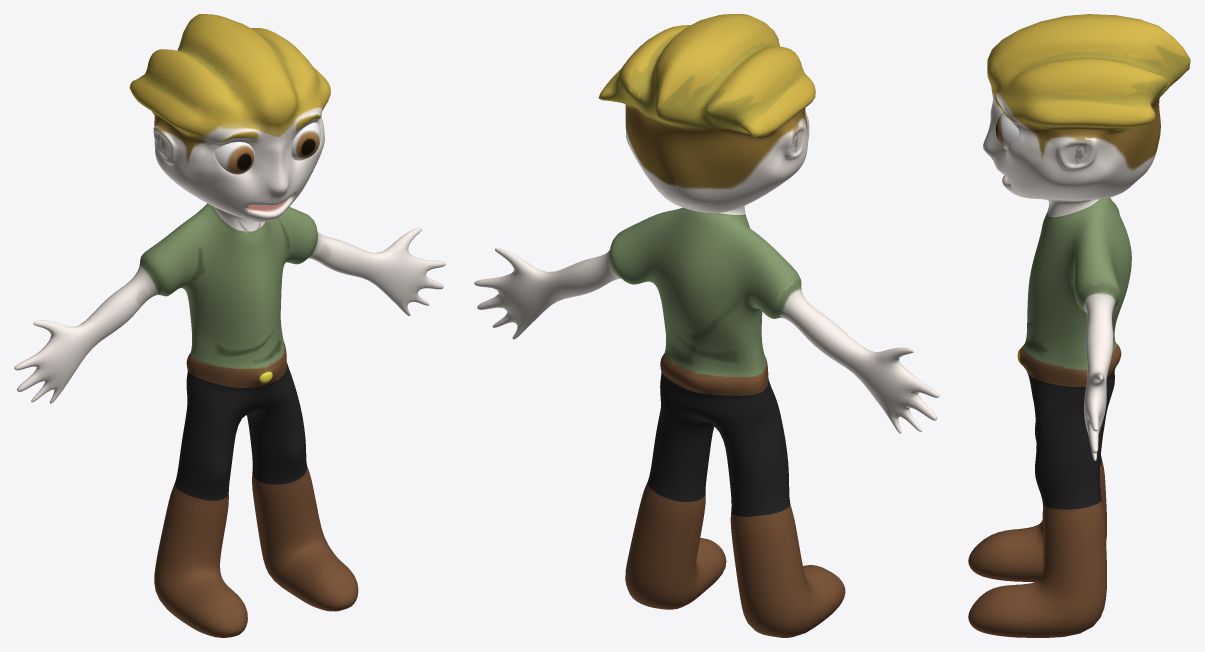
The model's file is MaleMainCharacter.fbx.
3 views of the same model, side by side, from view 1: azimuth 30°, elevation 25°; view 2: azimuth 150°, elevation 25°; view 3: azimuth 270°, elevation 25° (orthographic). The views are drawn at different scales.
Visible parts, largest first — view 1: MainCharacterFinal; view 2: MainCharacterFinal; view 3: MainCharacterFinal.
Boxes of the visible parts, x1,y1,x2,y2 form: MainCharacterFinal: (14, 14, 445, 637); MainCharacterFinal: (474, 14, 939, 637); MainCharacterFinal: (968, 14, 1190, 637).
Size of the model in its own units: 193 by 240 by 82.41.
